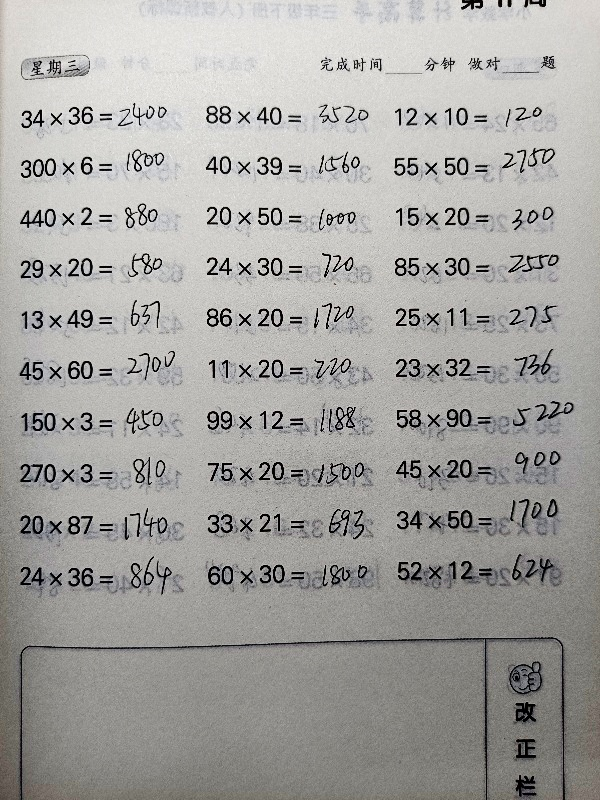equation: (11, 503, 191, 549), (198, 296, 378, 337), (11, 198, 191, 239), (12, 97, 192, 136), (11, 559, 191, 594), (198, 557, 378, 592), (199, 506, 379, 541), (12, 456, 192, 491), (199, 403, 379, 438), (388, 553, 568, 587), (388, 502, 568, 536), (199, 454, 379, 488), (388, 452, 568, 486), (13, 405, 193, 439), (387, 401, 567, 435), (10, 353, 190, 387), (200, 352, 380, 386), (387, 351, 567, 385), (13, 302, 193, 336), (12, 250, 192, 284), (386, 250, 566, 284), (199, 250, 379, 284), (388, 200, 568, 234), (198, 199, 378, 233), (386, 150, 566, 184), (197, 149, 377, 183), (11, 149, 191, 183), (387, 100, 567, 134), (197, 98, 377, 132), (387, 301, 567, 334)
